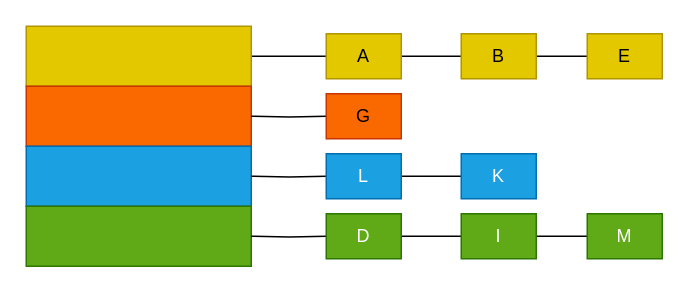
Image size: 689x293. Some labels were removed from this diagram. Each missing label, with the centre of its shape:
Prioritat 1: the point at 138,235
Prioritat 2: the point at 138,175
Prioritat 3: the point at 138,115
Prioritat 4: the point at 138,55
